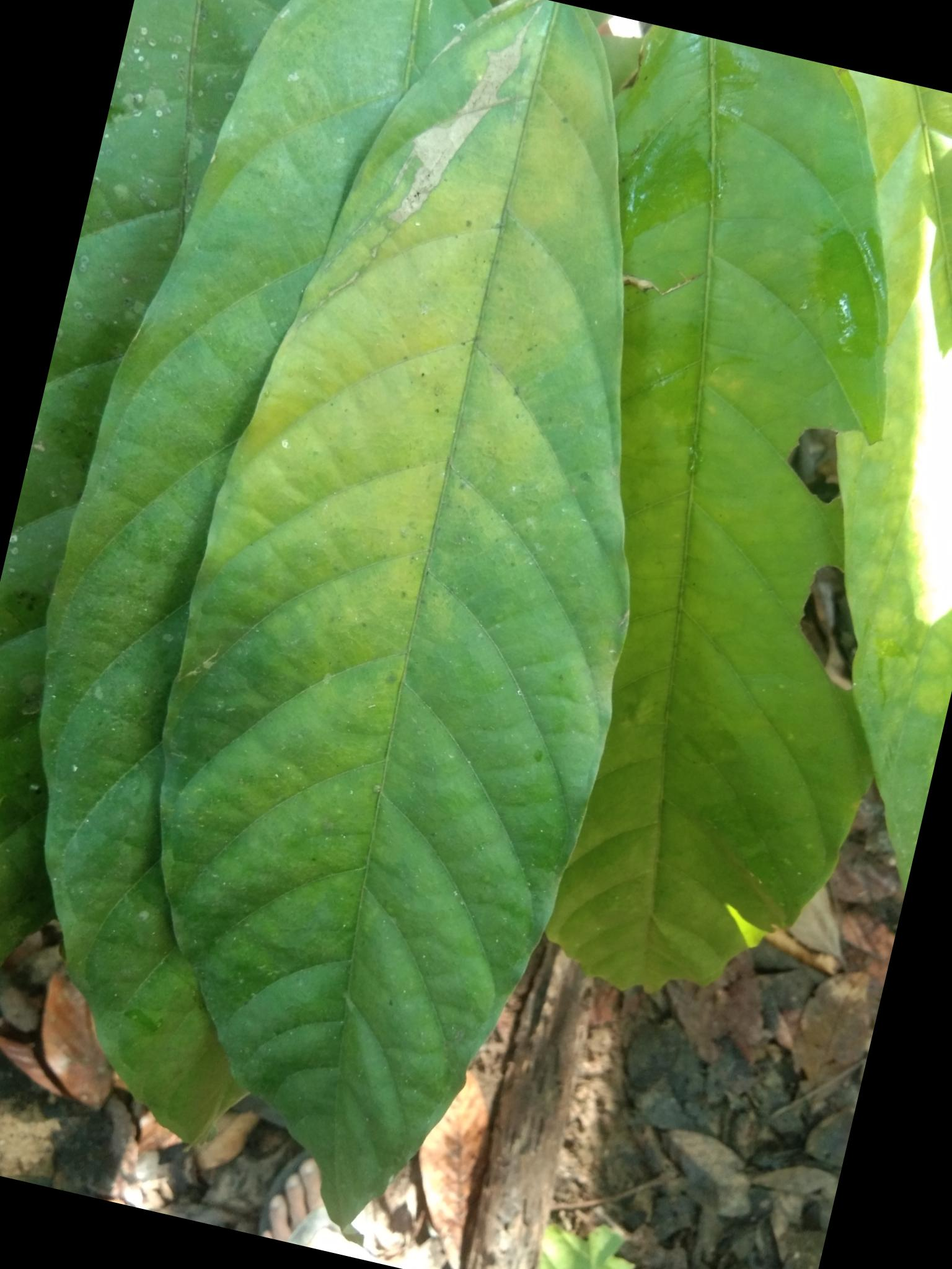Fosforo: (155, 0, 631, 1242)
